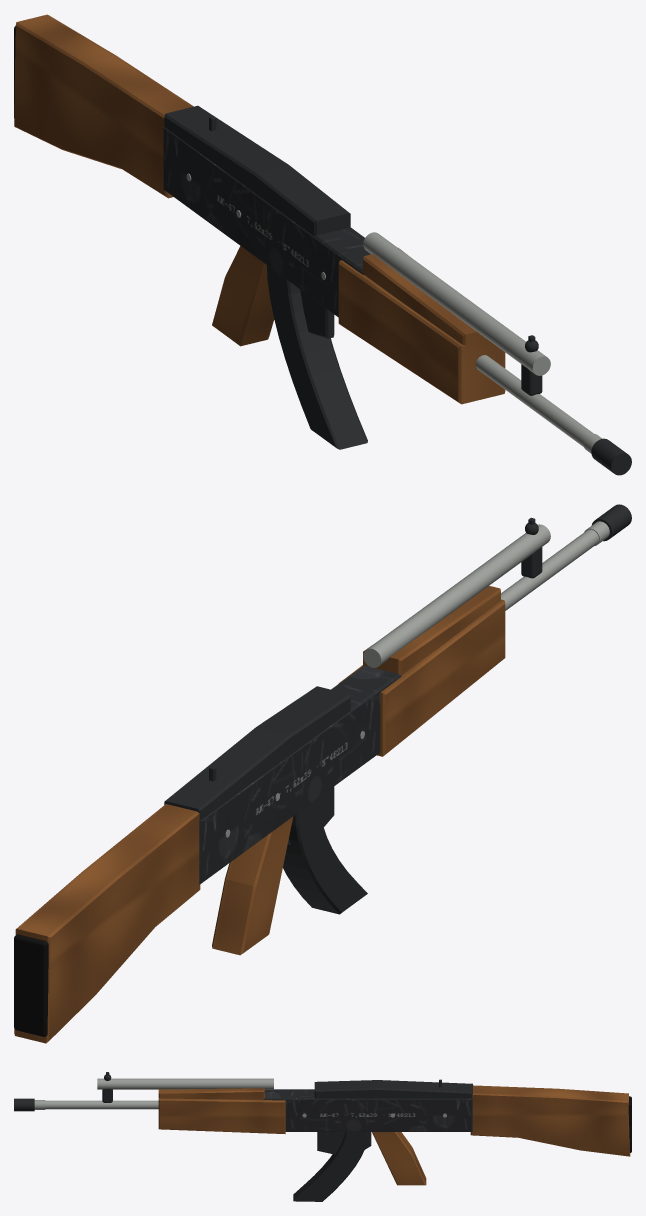
The picture shows the model from 3 angles, top to bottom: view 1: azimuth 30°, elevation 25°; view 2: azimuth 150°, elevation 25°; view 3: azimuth 270°, elevation 25°; orthographic projection. The views are drawn at different scales.
Bounding box in the file's own units: 0.0544 × 0.2672 × 1.19.
9 materials, 3 textured.
